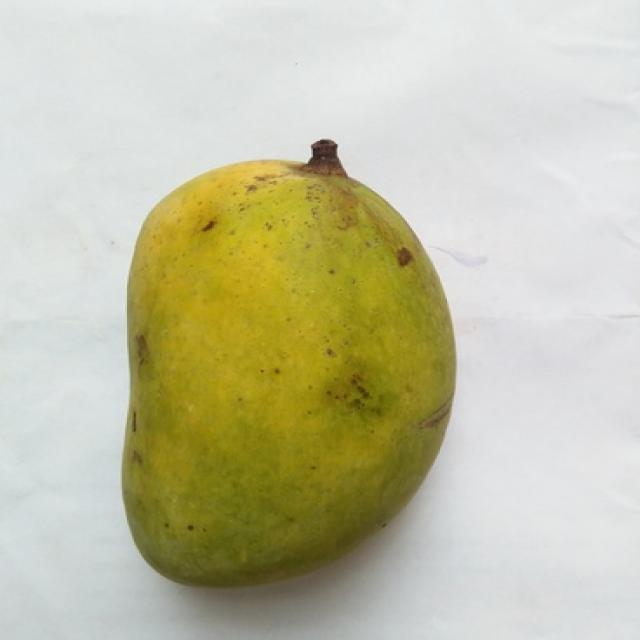Mango: (122, 143, 450, 584)
